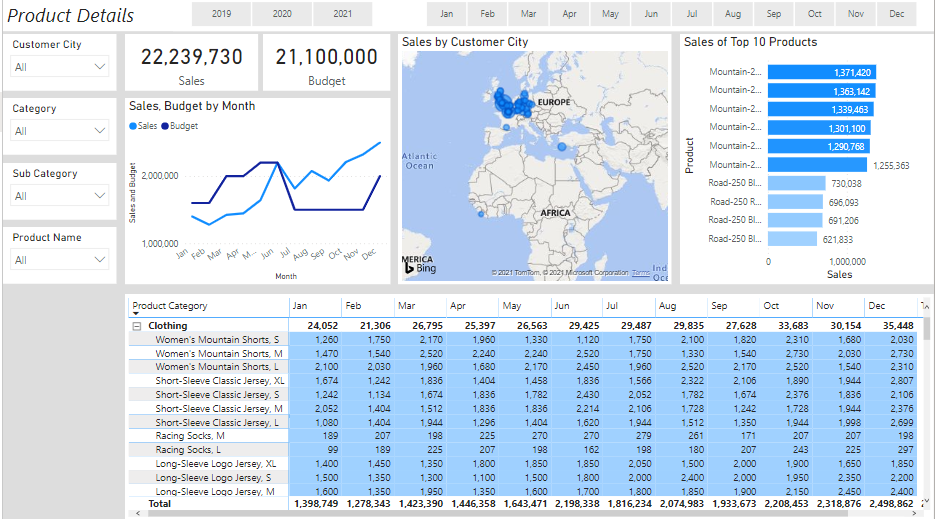

The dashboard page shown, as its layout file describes it:
{"tool":"powerbi","page":{"name":"Product Details","canvas":[1280,720],"ordinal":2},"visuals":[{"type":"textbox","box":[0.5,0,1279.5,46.9],"z":0},{"type":"slicer","fields":{"Values":["DIM_Customers.Customer City"]},"box":[0,51.1,156.2,78.1],"z":1000},{"type":"slicer","fields":{"Values":["DIM_Product.Product Category"]},"box":[0,139.2,156.2,78.1],"z":2000},{"type":"slicer","fields":{"Values":["DIM_Product.Sub Category"]},"box":[0,228.6,156.2,78.1],"z":3000},{"type":"slicer","fields":{"Values":["DIM_Product.Product Name"]},"box":[0,316.7,156.2,78.1],"z":4000},{"type":"slicer","fields":{"Values":["DIM_Calender.Year"]},"box":[234.3,0,298.2,46.9],"z":5000},{"type":"slicer","fields":{"Values":["DIM_Calender.MonthShort"]},"box":[556.7,0,722.8,46.9],"z":6000},{"type":"lineChart","title":"Sales, Budget by Month","fields":{"Y":["FACT_InternetSales.Sales","FACTS_SalesBudget.Budget_Amount"],"Category":["DIM_Calender.MonthShort"]},"box":[167.6,139.2,365,255.6],"z":7000},{"type":"clusteredBarChart","title":"Sales of Top 10 Products","fields":{"Y":["FACT_InternetSales.Sales"],"Category":["DIM_Product.Product Name"]},"box":[930.2,51.1,349.3,343.7],"z":8000},{"type":"map","fields":{"Category":["DIM_Customers.Customer City"],"Size":["FACT_InternetSales.Sales"]},"box":[542.5,51.1,376.3,343.7],"z":9000},{"type":"card","fields":{"Values":["Key_Measures.Sales"]},"box":[167.6,51.1,183.2,78.1],"z":10000},{"type":"card","fields":{"Values":["Key_Measures.Budget_Amount"]},"box":[357.9,51.1,174.7,78.1],"z":11000},{"type":"pivotTable","fields":{"Values":["Key_Measures.Sales"],"Columns":["DIM_Calender.MonthShort"],"Rows":["DIM_Product.Product Category","DIM_Product.Product Name"]},"box":[167.6,409,1112,311],"z":12000}]}

Visuals, with their boxes in screenshot pixels (x1, y1, x2, y2), scaled from the page's 1280x720 canvas onto the 936x519 screenshot:
textbox: {"x1": 0, "y1": 0, "x2": 935, "y2": 34}
slicer - DIM_Customers.Customer City: {"x1": 0, "y1": 37, "x2": 114, "y2": 93}
slicer - DIM_Product.Product Category: {"x1": 0, "y1": 100, "x2": 114, "y2": 157}
slicer - DIM_Product.Sub Category: {"x1": 0, "y1": 165, "x2": 114, "y2": 221}
slicer - DIM_Product.Product Name: {"x1": 0, "y1": 228, "x2": 114, "y2": 285}
slicer - DIM_Calender.Year: {"x1": 171, "y1": 0, "x2": 389, "y2": 34}
slicer - DIM_Calender.MonthShort: {"x1": 407, "y1": 0, "x2": 935, "y2": 34}
"Sales, Budget by Month" lineChart: {"x1": 123, "y1": 100, "x2": 389, "y2": 285}
"Sales of Top 10 Products" clusteredBarChart: {"x1": 680, "y1": 37, "x2": 935, "y2": 285}
map - DIM_Customers.Customer City x FACT_InternetSales.Sales: {"x1": 397, "y1": 37, "x2": 672, "y2": 285}
card - Key_Measures.Sales: {"x1": 123, "y1": 37, "x2": 257, "y2": 93}
card - Key_Measures.Budget_Amount: {"x1": 262, "y1": 37, "x2": 389, "y2": 93}
pivotTable - Key_Measures.Sales x DIM_Calender.MonthShort: {"x1": 123, "y1": 295, "x2": 935, "y2": 518}
